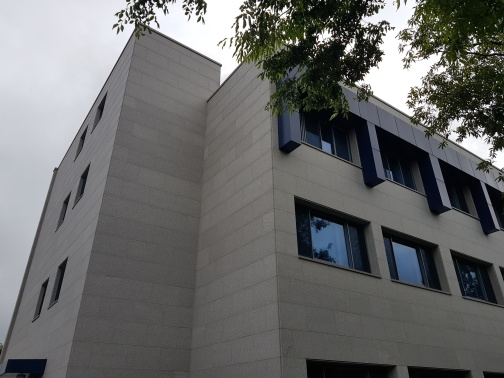College of Social Sciences: (9, 24, 500, 367)
